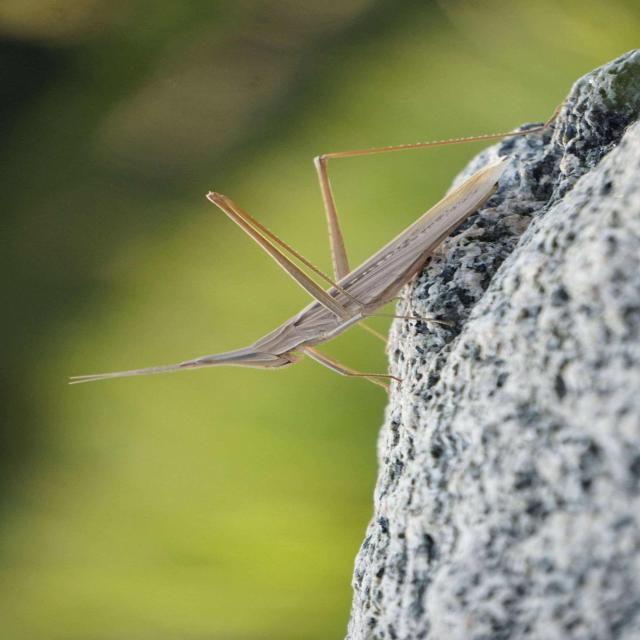ZhaMeng: (67, 119, 528, 412)
